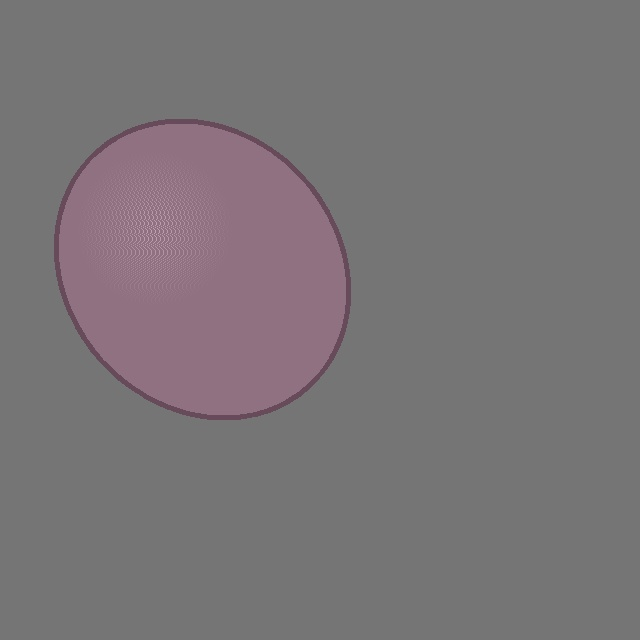lens: (56, 122, 348, 416)
